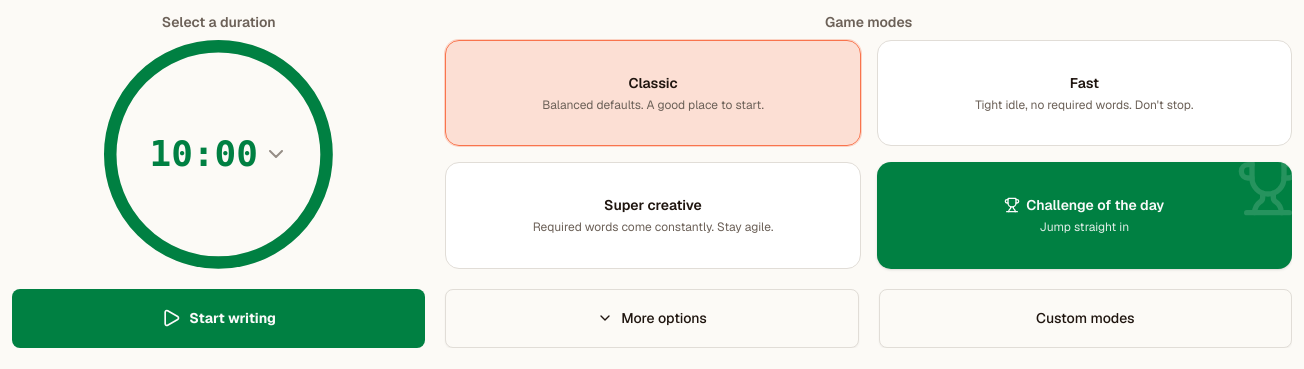
Scenario: SessionLauncher › re-dials the session length without un-highlighting the selected mode
The width and height of the screenshot is (1304, 369).
Click the dropdown named "session length". click: (219, 154)
box: [150,134,288,174]
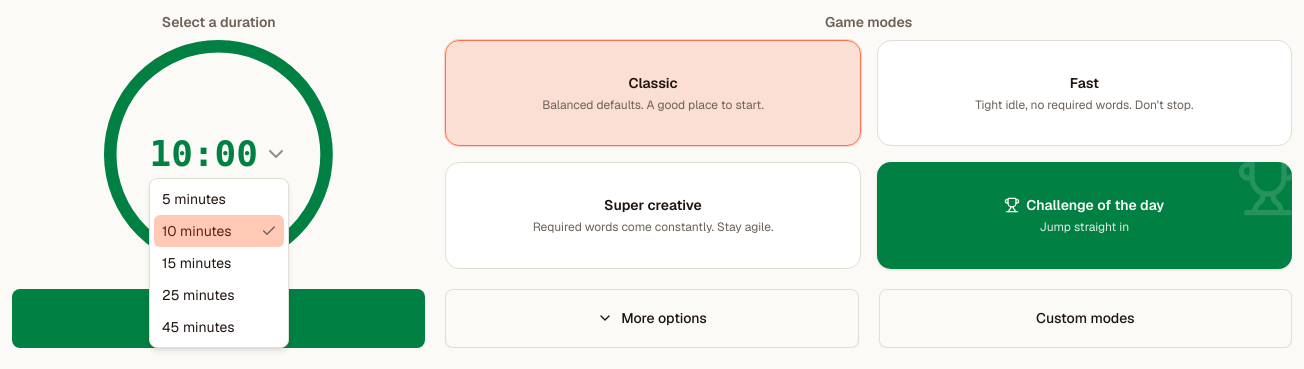
Click the option "25 minutes". click: (198, 295)
box: [162,286,234,304]
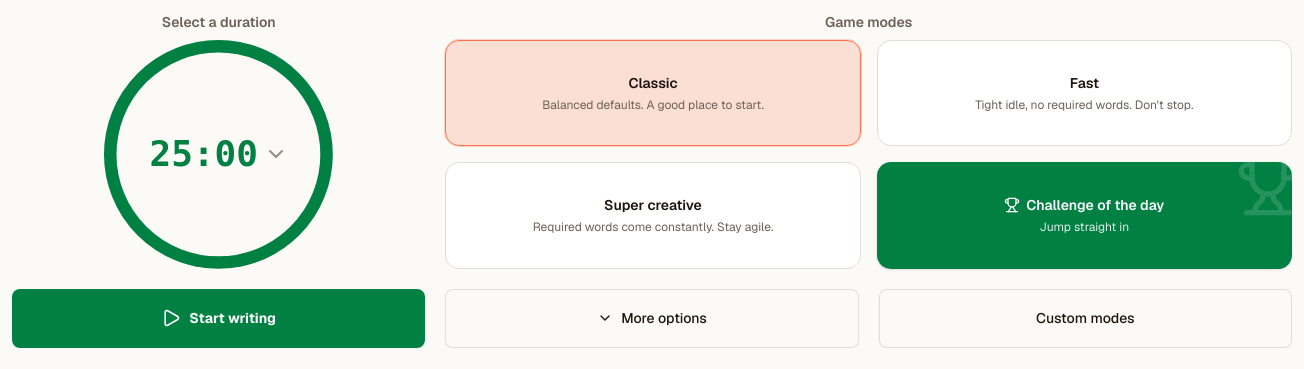
Check: the dropdown "25:00" is shown, box [150,134,288,174]
